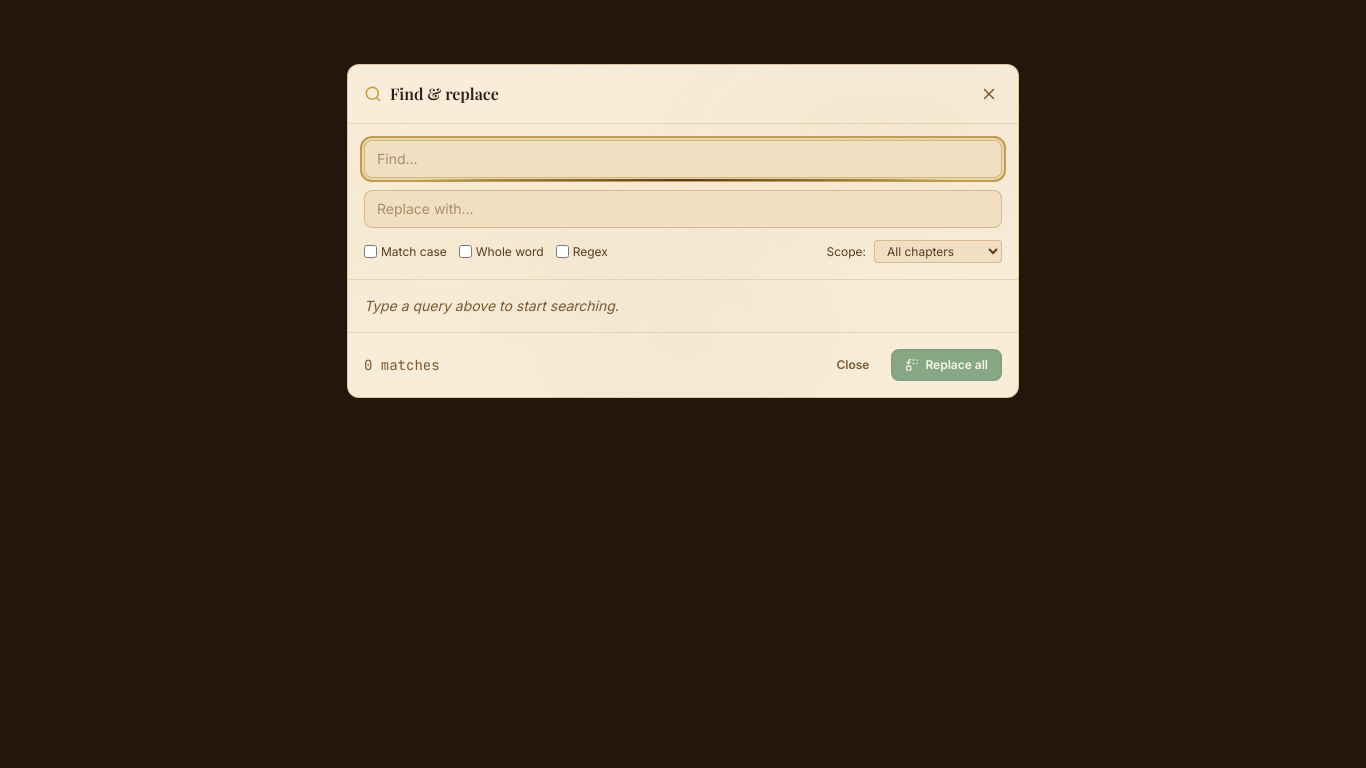
Test case: FindReplaceDialog › finds matches across chapters
Type "the" into the field named "Find query" at {"x": 683, "y": 159}, box x1=364 y1=140 x2=1002 y2=178
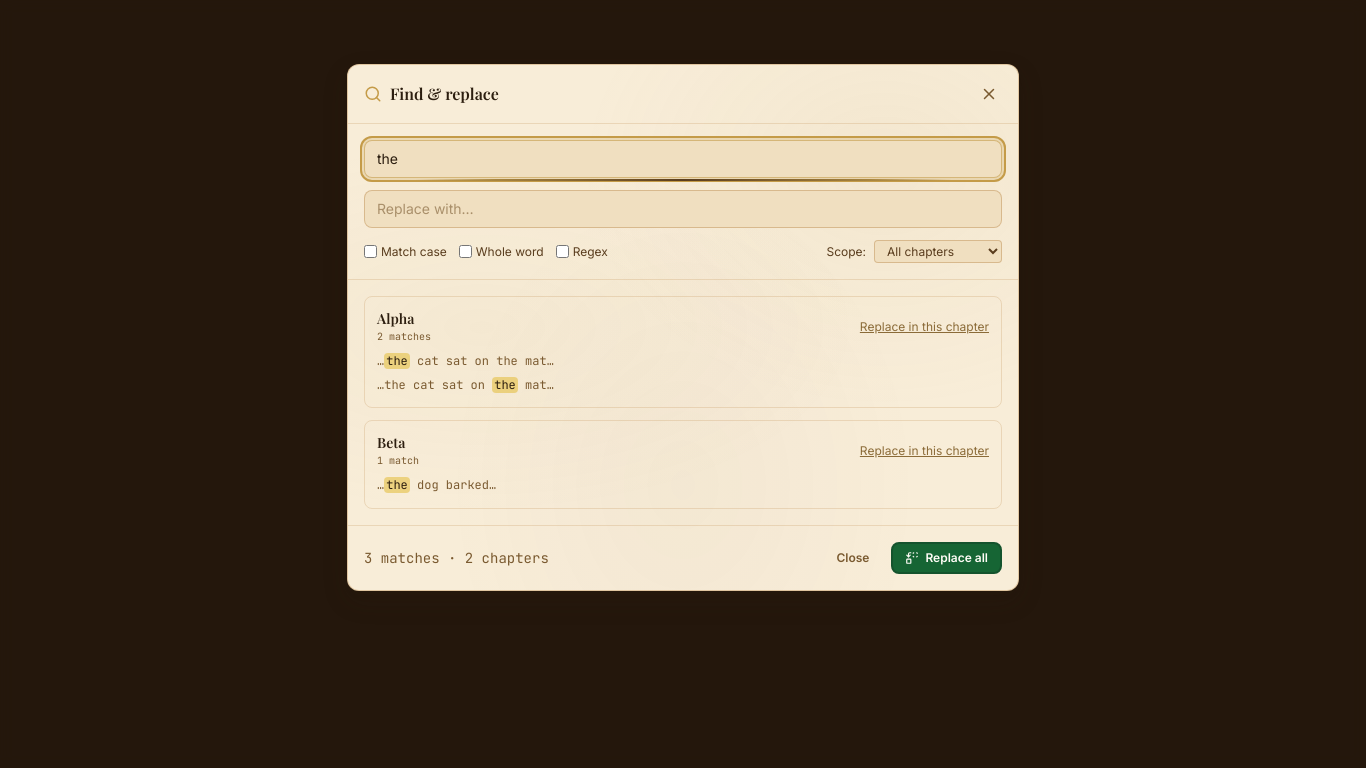
Result: the text "Alpha" is shown at x1=377 y1=309 x2=414 y2=328
Result: the text "Beta" is shown at x1=377 y1=433 x2=405 y2=452
